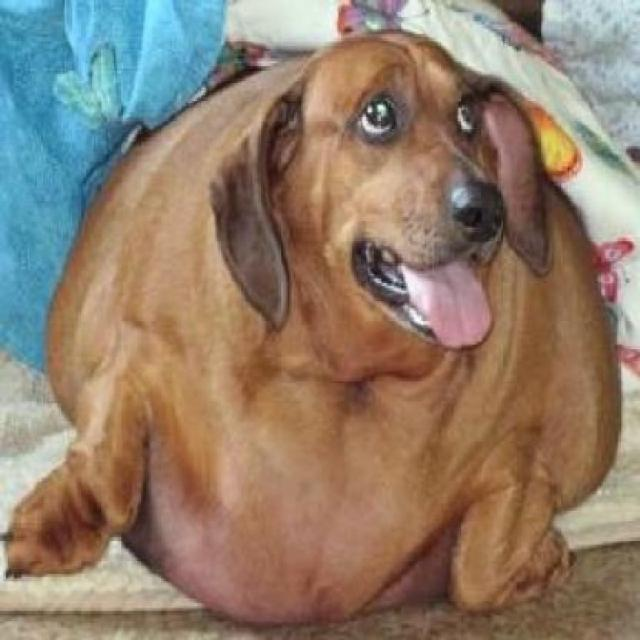Dog: (2, 29, 624, 637)
